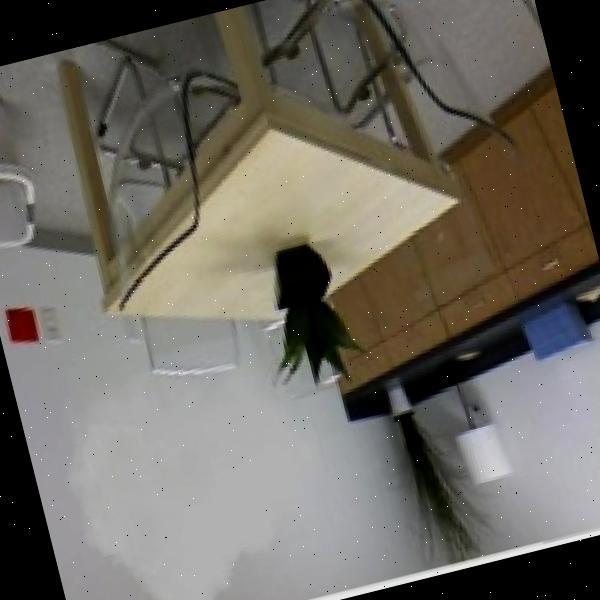smoke: (44, 336, 351, 600)
